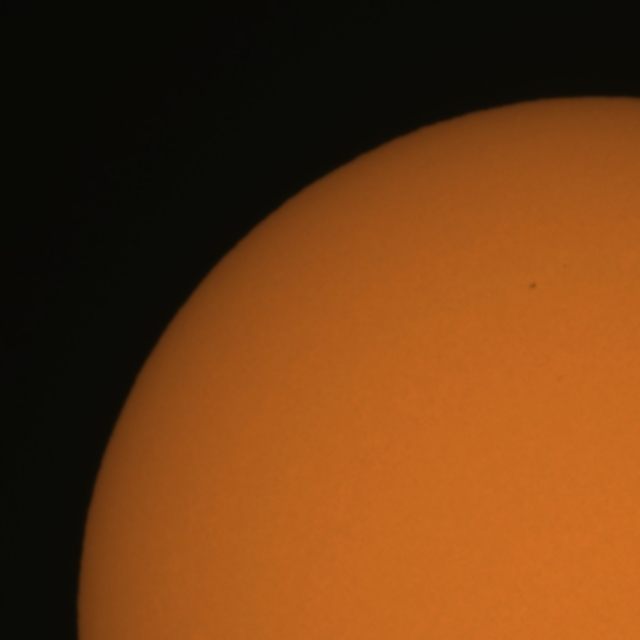sunspot: (528, 280, 538, 291)
